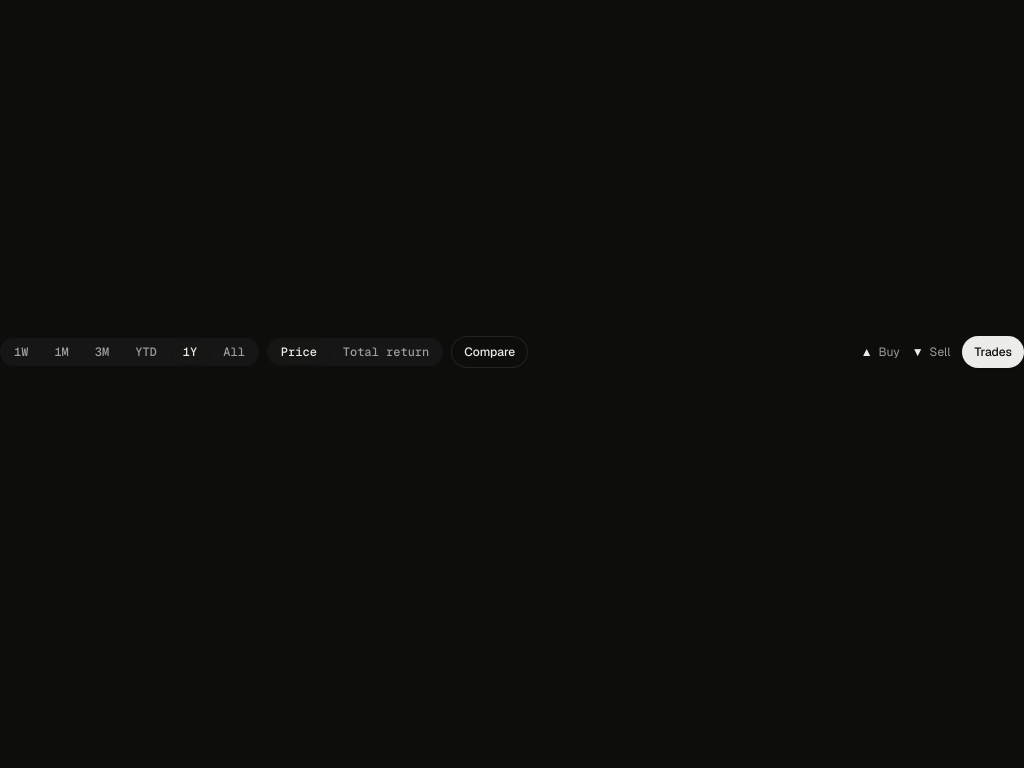
AssetPriceChart — total return and compare › compares on total return against a TR index in the holding's currency: forces TR, locks the control, hides the cost line
Click the button "Compare" at (490, 352), box [451, 336, 528, 368]
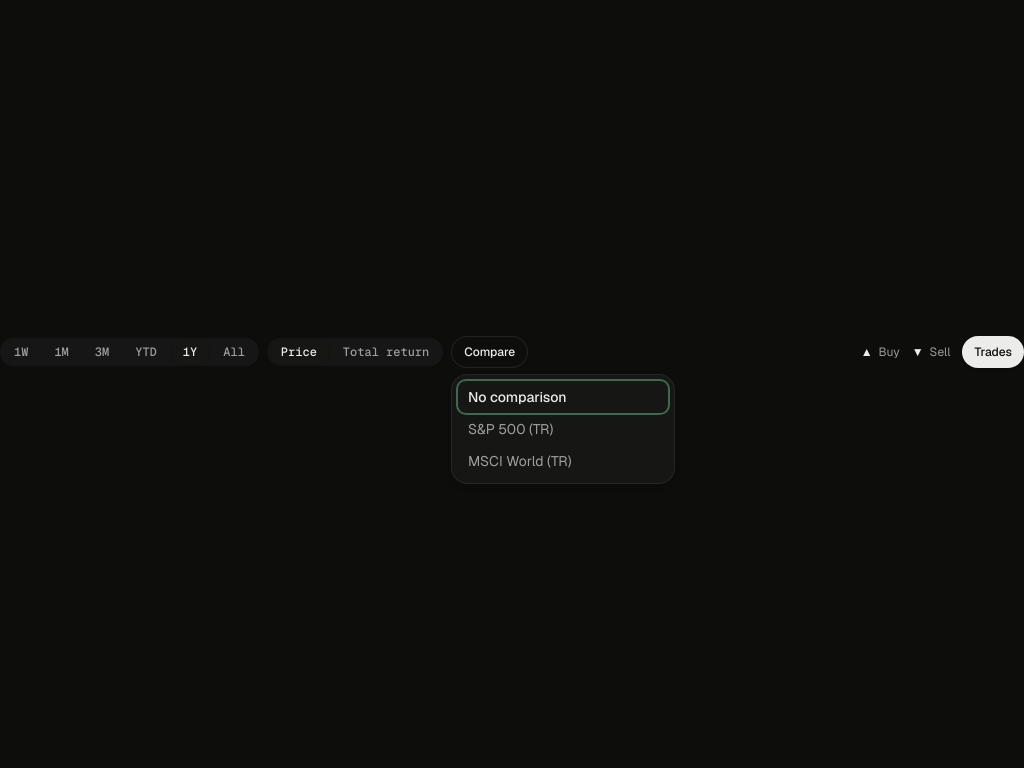
Click the radio button labelled "S&P 500 (TR)" at (563, 429), box [458, 413, 668, 445]
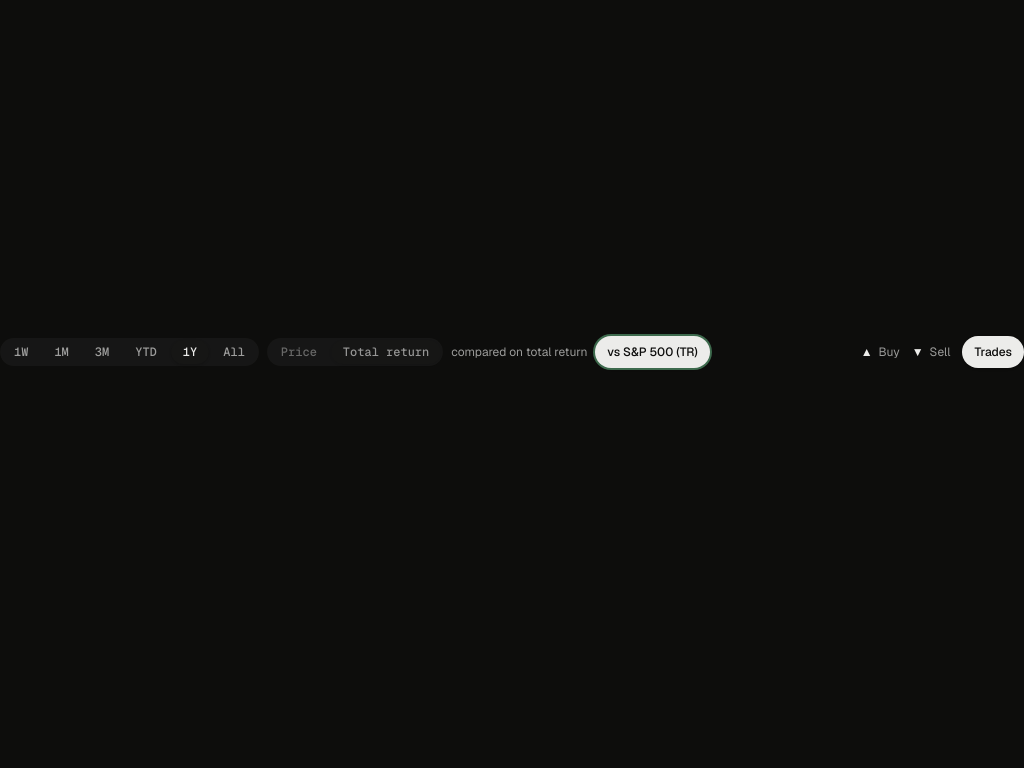
Expected: the radio button labelled "Total return" is disabled, [331, 340, 441, 364]
Now the text "compared on total return" is shown, box [451, 344, 587, 360]
